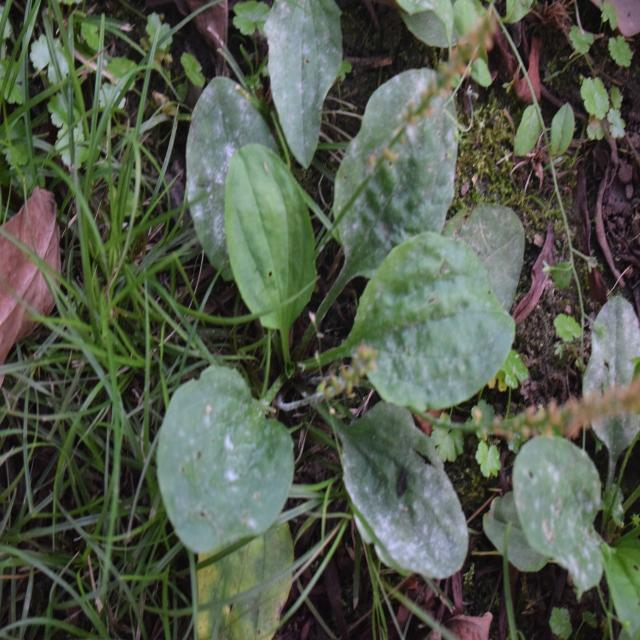plantain: (165, 84, 500, 567)
